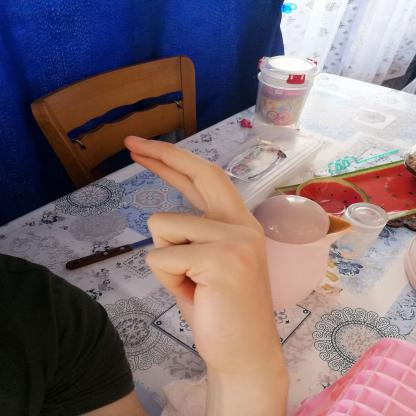ZAY: (110, 127, 298, 389)
